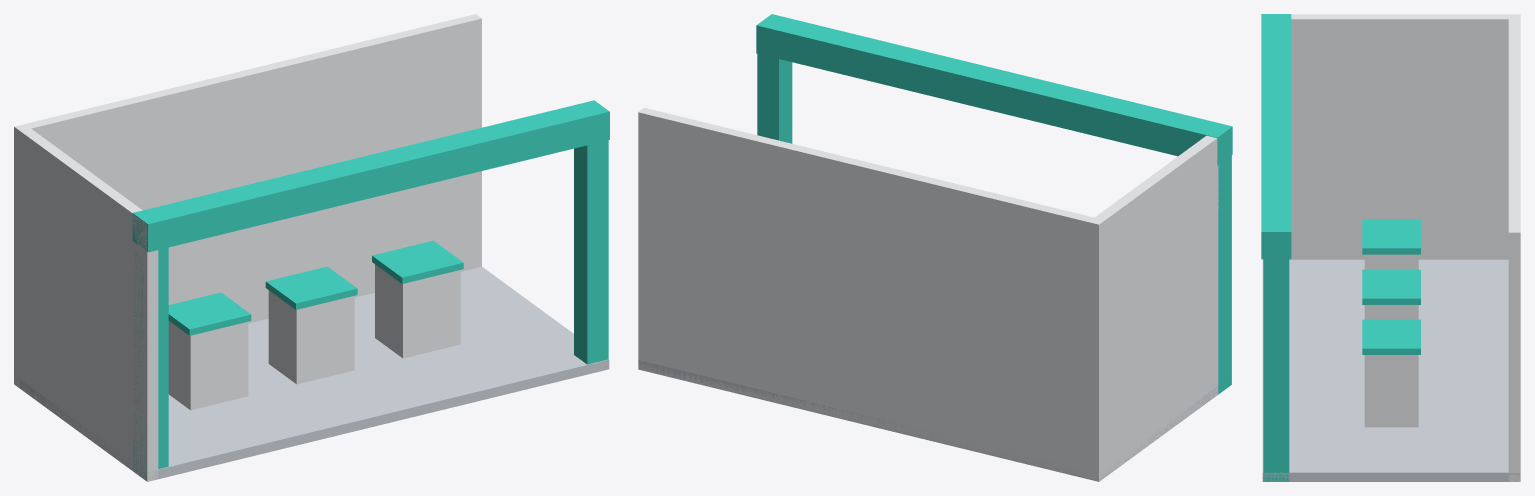
The picture shows the model from 3 angles, left to right: view 1: azimuth 30°, elevation 25°; view 2: azimuth 150°, elevation 25°; view 3: azimuth 270°, elevation 25°; orthographic projection. The views are drawn at different scales.
Visible parts, largest first — view 1: Exhibition Booth Concept; view 2: Exhibition Booth Concept; view 3: Exhibition Booth Concept.
Part boxes in pixels (<box>): Exhibition Booth Concept: <box>14,14,609,481</box>; Exhibition Booth Concept: <box>638,14,1232,481</box>; Exhibition Booth Concept: <box>1261,14,1520,481</box>.
Bounding box in the file's own units: 6 × 3.2 × 3.01.
